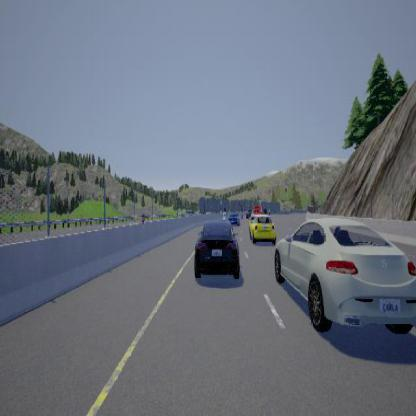vehicle: (274, 217, 415, 333), (194, 212, 240, 278), (245, 205, 276, 244)
